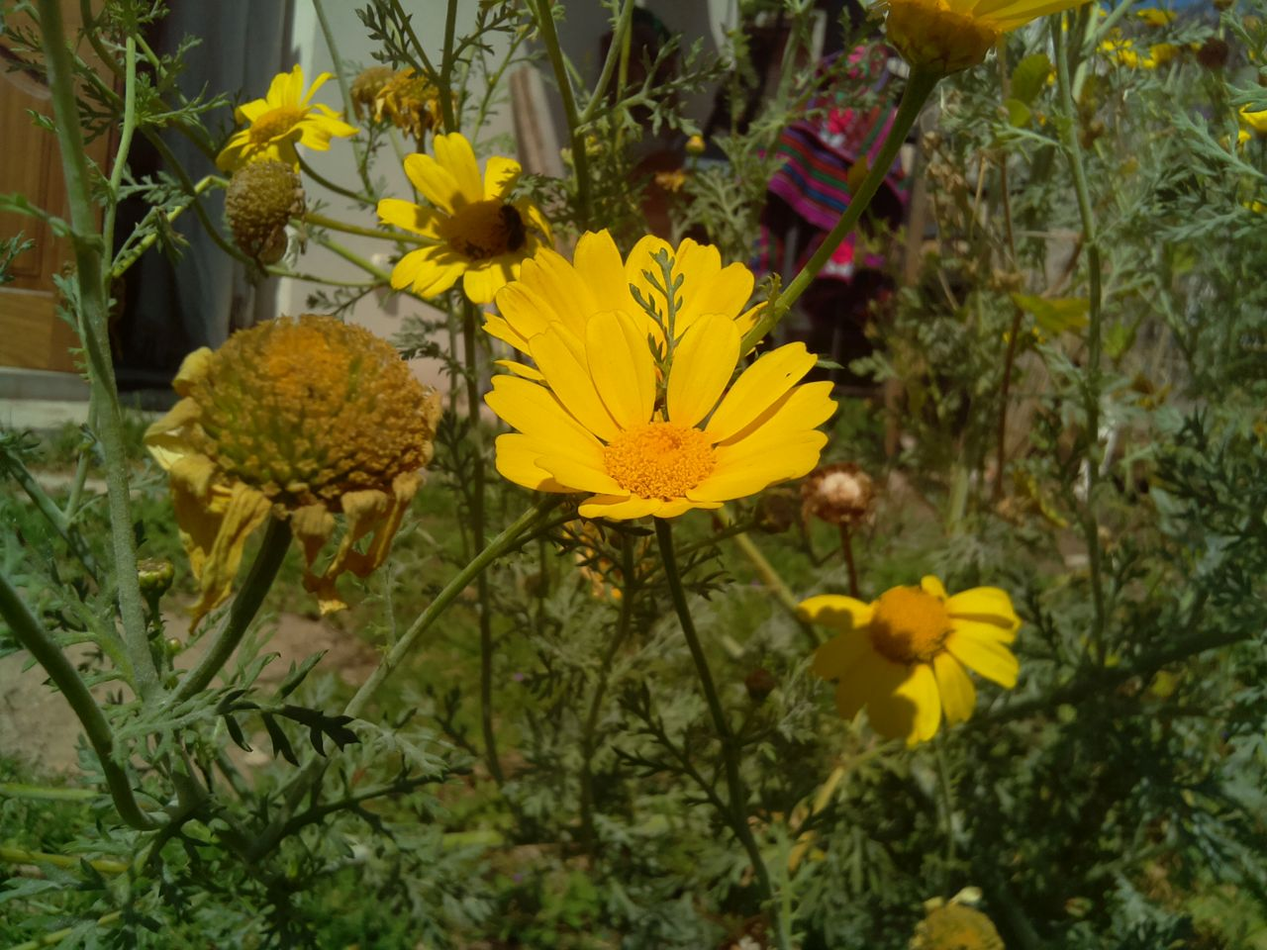bee: (485, 182, 541, 257)
